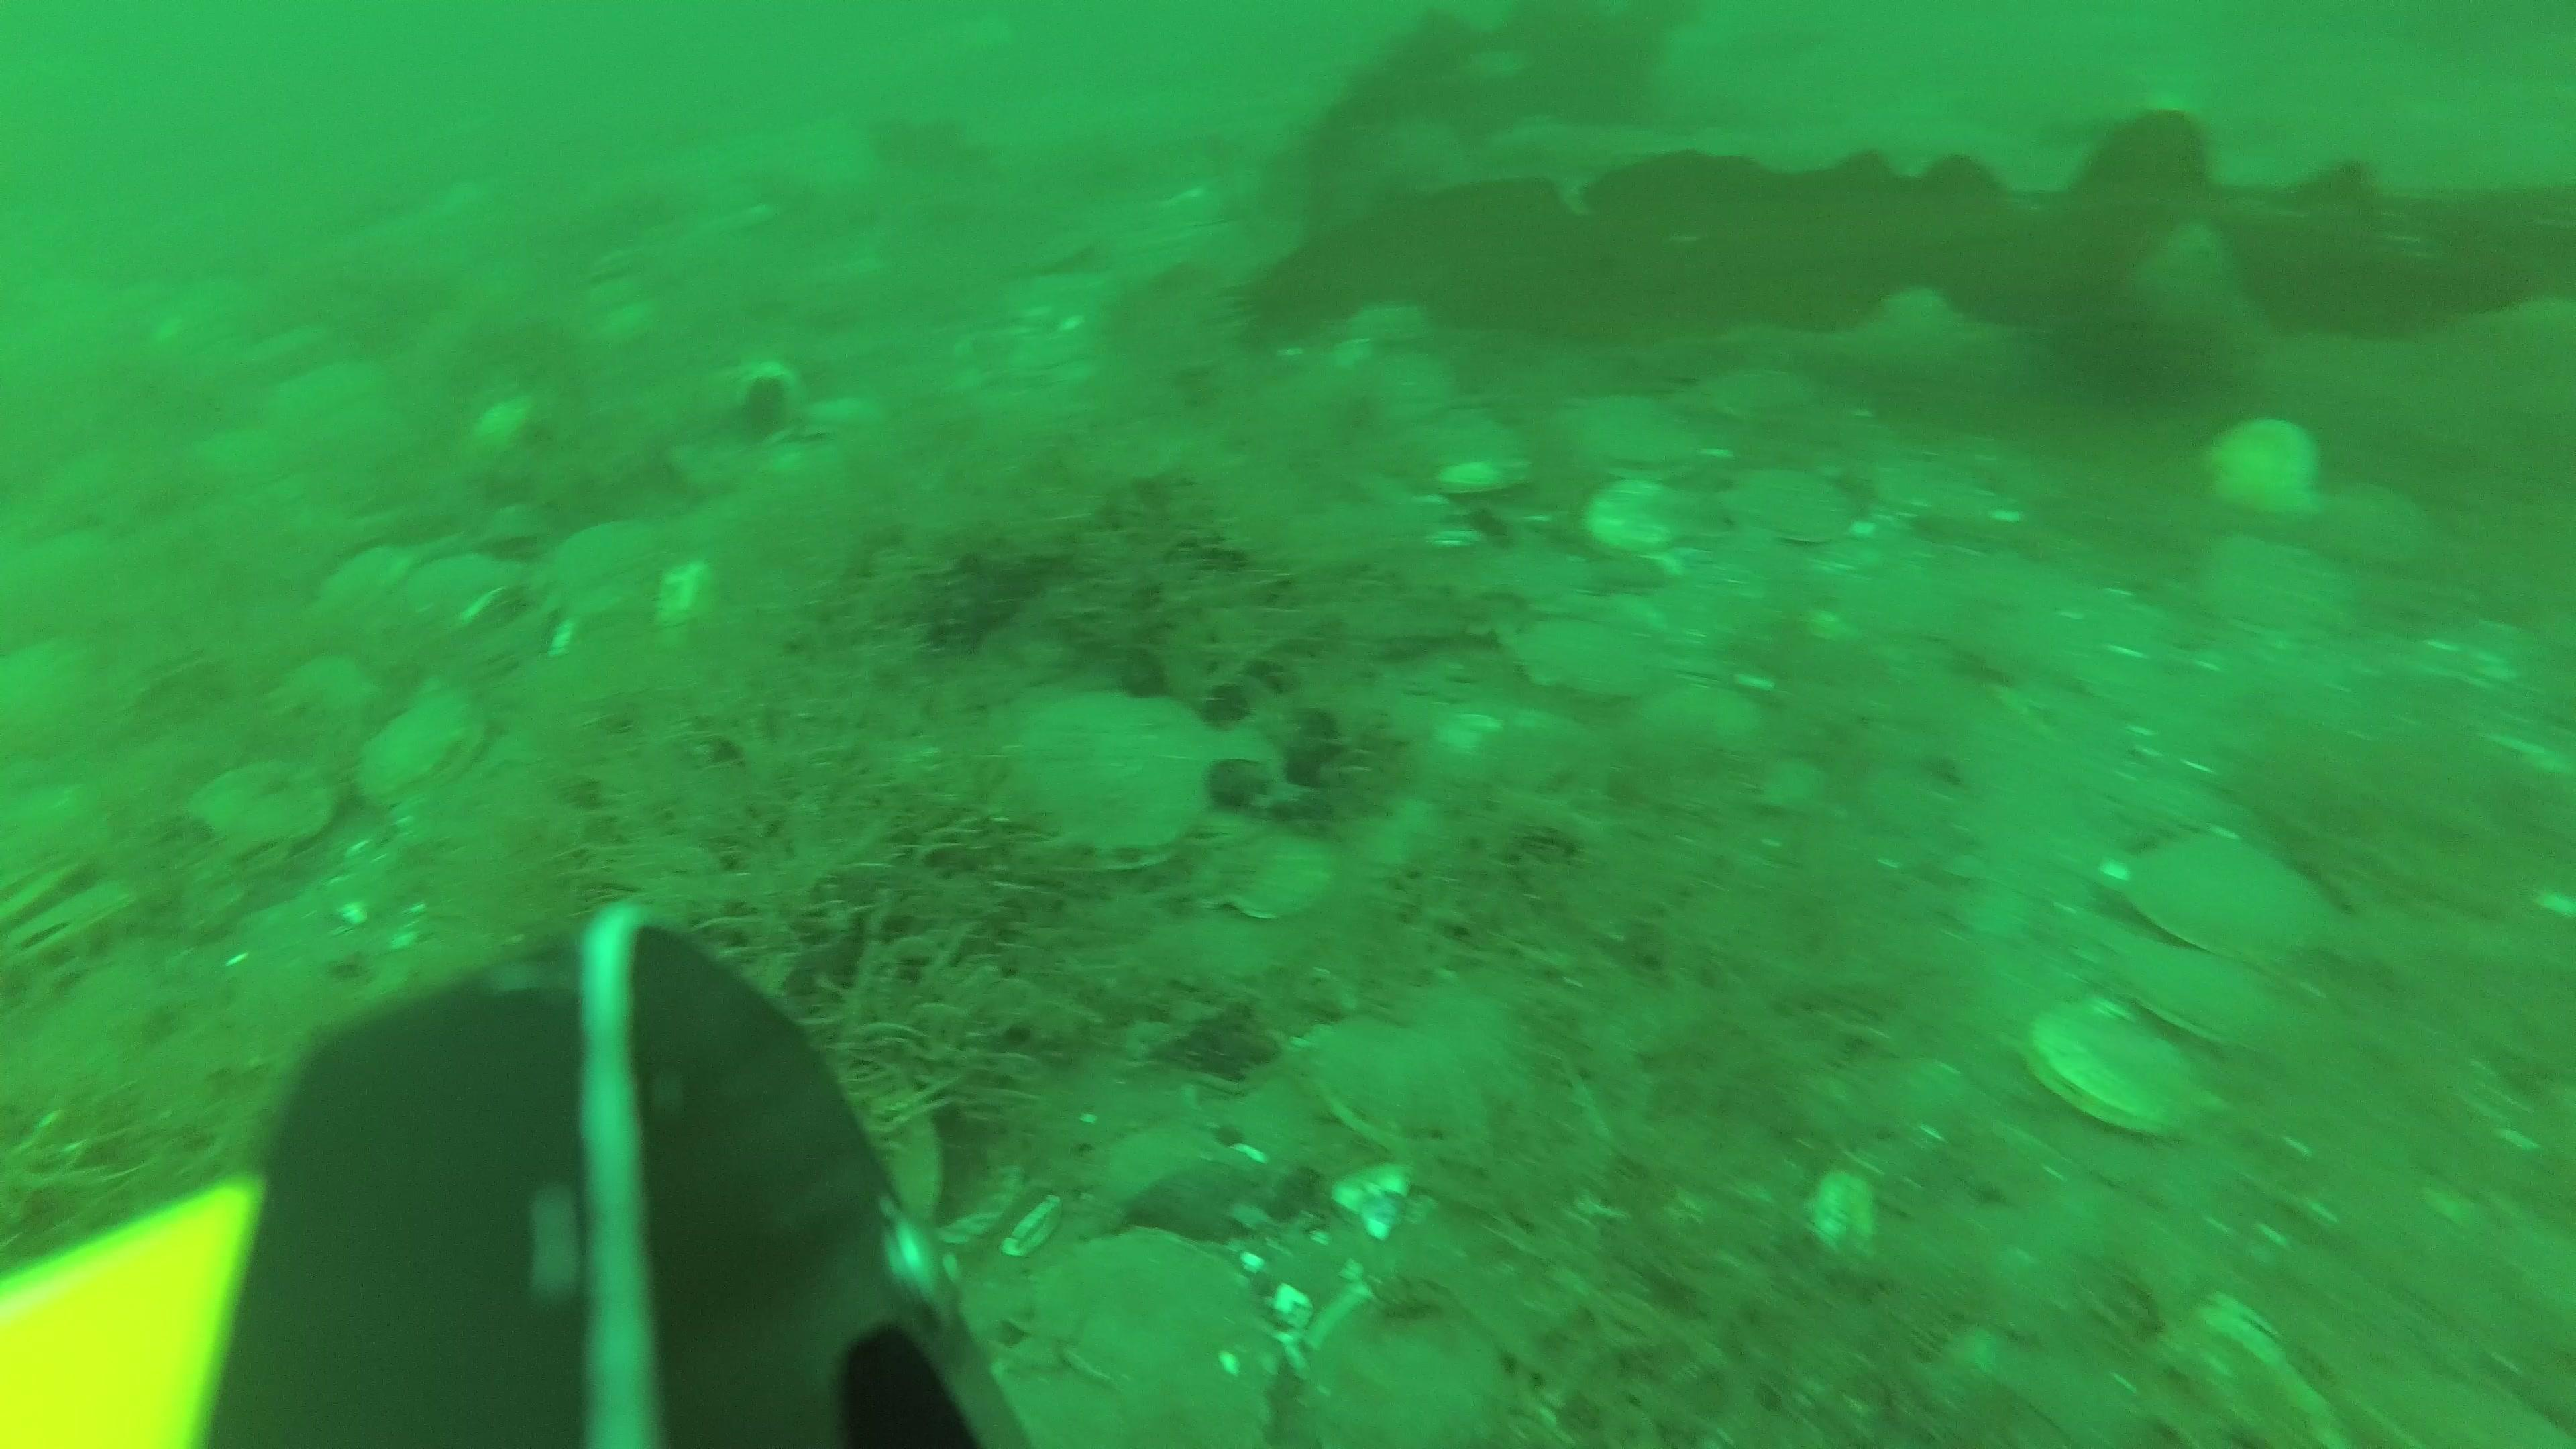scallop: (993, 1228, 1279, 1449), (996, 690, 1258, 862), (2118, 821, 2330, 970), (1300, 1313, 1514, 1449), (2031, 1005, 2224, 1146), (2104, 929, 2282, 1039), (2197, 525, 2355, 644), (186, 752, 340, 867), (368, 692, 492, 819), (1522, 607, 1668, 711), (1196, 816, 1341, 920), (0, 874, 142, 977), (1566, 379, 1698, 481), (2206, 419, 2316, 522), (267, 662, 386, 754), (1734, 462, 1849, 556), (1580, 476, 1704, 557), (2307, 483, 2424, 568), (1706, 352, 1810, 430), (5, 840, 81, 918), (1431, 455, 1530, 506)
